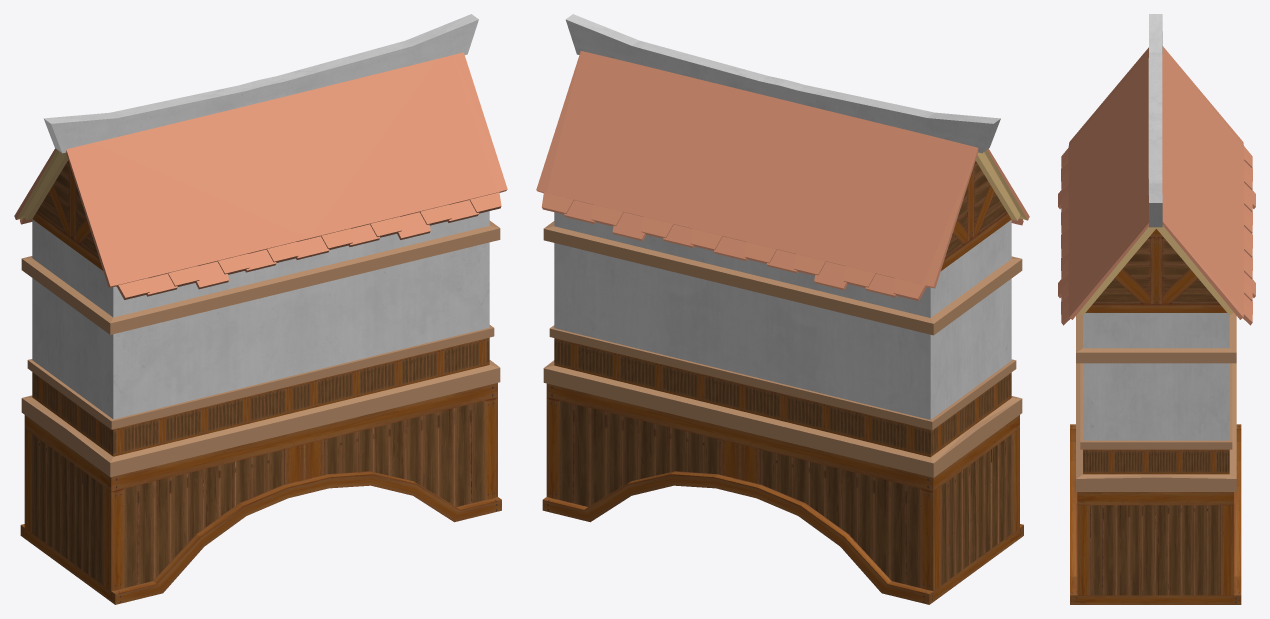
Rendered from Building_A_03.fbx.
3 renders of one model, left to right at view 1: azimuth 30°, elevation 25°; view 2: azimuth 150°, elevation 25°; view 3: azimuth 270°, elevation 25°, orthographic. The views are drawn at different scales.
Visible parts, largest first — view 1: Building_A_03; view 2: Building_A_03; view 3: Building_A_03.
Boxes of the visible parts, x1,y1,x2,y2 form: Building_A_03: [14, 14, 507, 604]; Building_A_03: [536, 14, 1029, 604]; Building_A_03: [1058, 14, 1255, 604].
Size of the model in its own units: 1449 by 1469 by 641.
